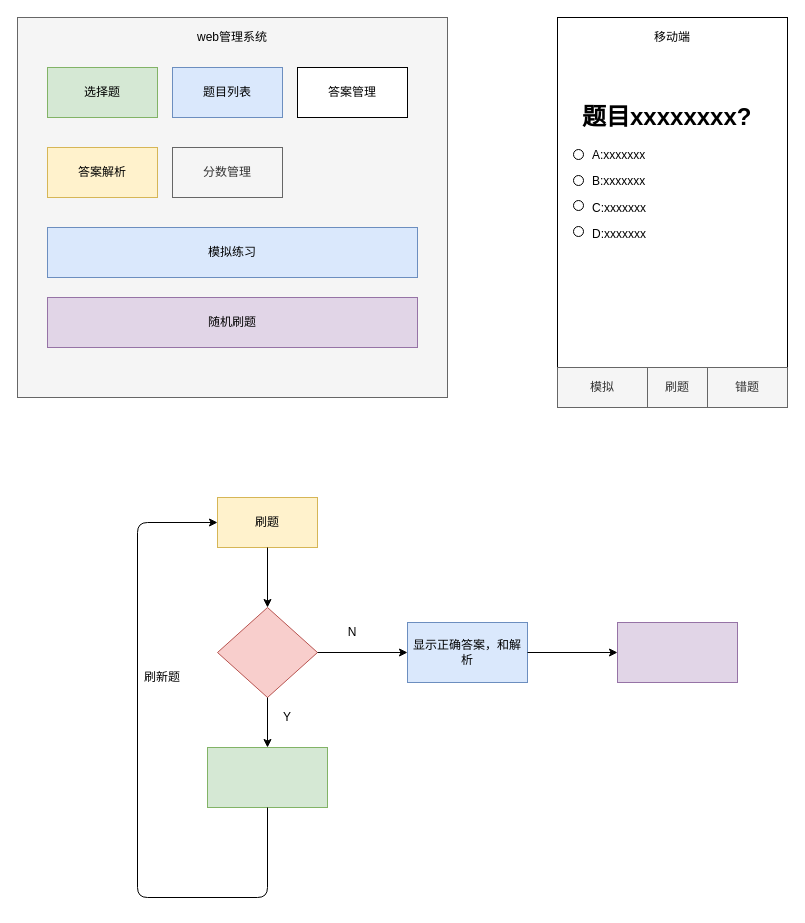
The diagram is 805 pixels wide and 923 high, and some of its shapes have lost their labels. The shapes that lost their labels are listed below. From the top down, each one's box as (x1, y1, x2, y2) in pixels, then its label:
(216, 606, 318, 698): 检验答案
(616, 622, 738, 682): 纳入错题库
(206, 746, 328, 808): 完成
